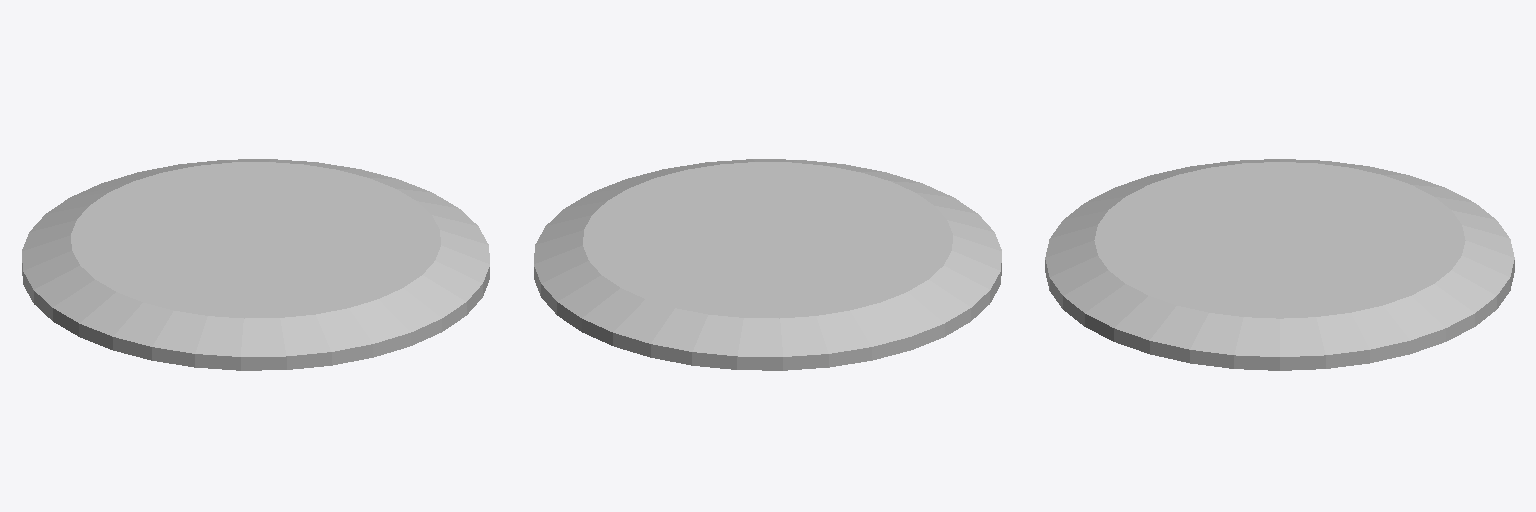
Rendered from circular_button_mesh.obj.
3 views of the same model, side by side, from view 1: azimuth 30°, elevation 25°; view 2: azimuth 150°, elevation 25°; view 3: azimuth 270°, elevation 25° (orthographic).
Visible parts, largest first — view 1: circular_button_mesh_disconnect_button.001; view 2: circular_button_mesh_disconnect_button.001; view 3: circular_button_mesh_disconnect_button.001.
Part boxes in pixels (x1,y1,x2,y2): circular_button_mesh_disconnect_button.001: (22,159,489,370); circular_button_mesh_disconnect_button.001: (534,159,1001,370); circular_button_mesh_disconnect_button.001: (1045,159,1514,370).
Size of the model in its own units: 0.0208 by 0.0015 by 0.0208.